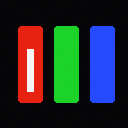4 line_v: (27, 49, 33, 91)
